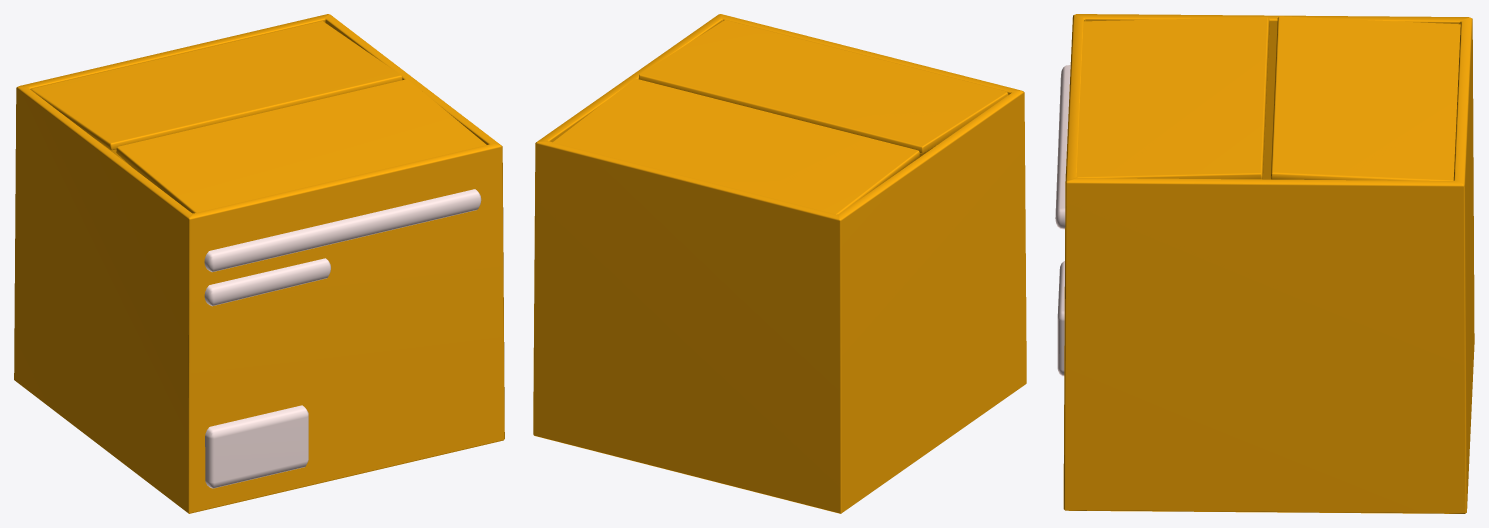
File: Public_6_Box_13.glb
The picture shows the model from 3 angles, left to right: view 1: azimuth 30°, elevation 25°; view 2: azimuth 150°, elevation 25°; view 3: azimuth 270°, elevation 25°; orthographic projection. The views are drawn at different scales.
Parts seen in each view (by area): view 1: Public_6_Box_13; view 2: Public_6_Box_13; view 3: Public_6_Box_13.
Part boxes in pixels (x1,y1,x2,y2): Public_6_Box_13: (14,14,504,513); Public_6_Box_13: (533,14,1026,513); Public_6_Box_13: (1055,14,1474,513).
Bounding box in the file's own units: 0.8646 × 0.7743 × 0.8817.
Materials: 1 (1 with a texture image).
